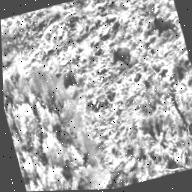boar: (147, 8, 183, 47), (107, 38, 138, 75), (53, 64, 84, 97)
